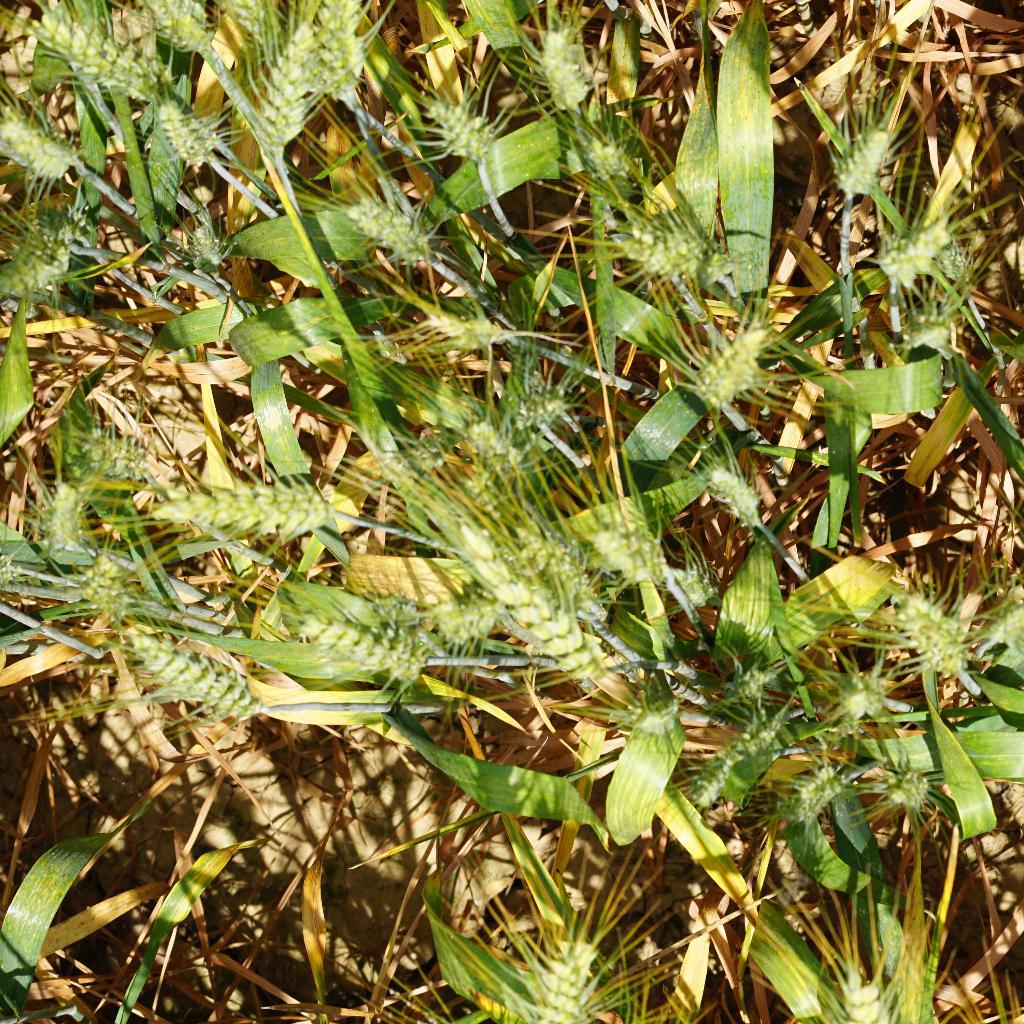0-0: (153, 468, 350, 548), (122, 616, 266, 721), (606, 188, 738, 295), (37, 10, 172, 112), (286, 607, 430, 690), (672, 307, 778, 411), (673, 709, 773, 815), (0, 83, 89, 202), (249, 21, 322, 165), (393, 295, 515, 370), (511, 922, 600, 1023), (811, 103, 897, 205), (301, 0, 382, 107), (522, 21, 609, 116), (0, 211, 89, 302), (879, 580, 967, 671), (501, 519, 590, 606), (456, 414, 539, 507), (702, 448, 777, 541), (344, 191, 438, 264), (597, 512, 677, 589), (873, 219, 955, 292), (557, 120, 639, 191), (415, 90, 497, 161), (146, 94, 213, 179), (120, 0, 221, 56), (407, 585, 501, 643), (785, 747, 855, 822), (37, 485, 97, 565), (833, 960, 908, 1024), (886, 300, 960, 364), (72, 423, 152, 482), (610, 681, 688, 740), (67, 550, 137, 615), (823, 665, 892, 729), (358, 586, 427, 650), (500, 384, 576, 441), (873, 746, 941, 808), (224, 0, 284, 63), (661, 555, 725, 613), (707, 657, 780, 706), (175, 209, 227, 273), (925, 235, 980, 294)
